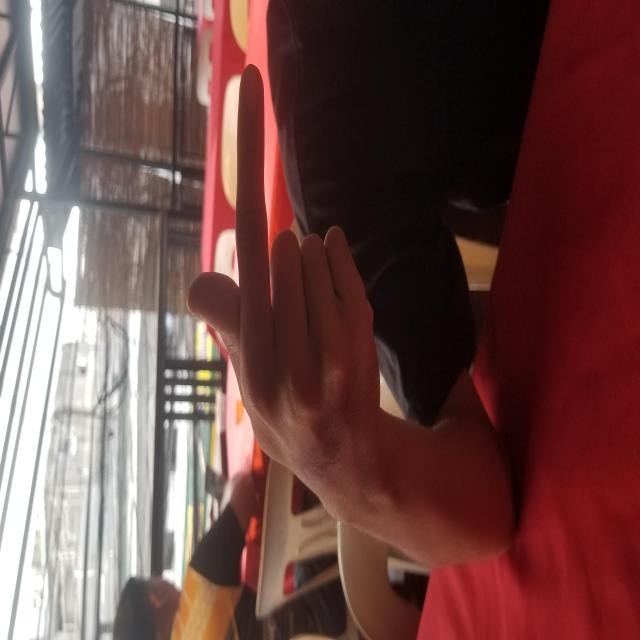G: (143, 186, 580, 385)
